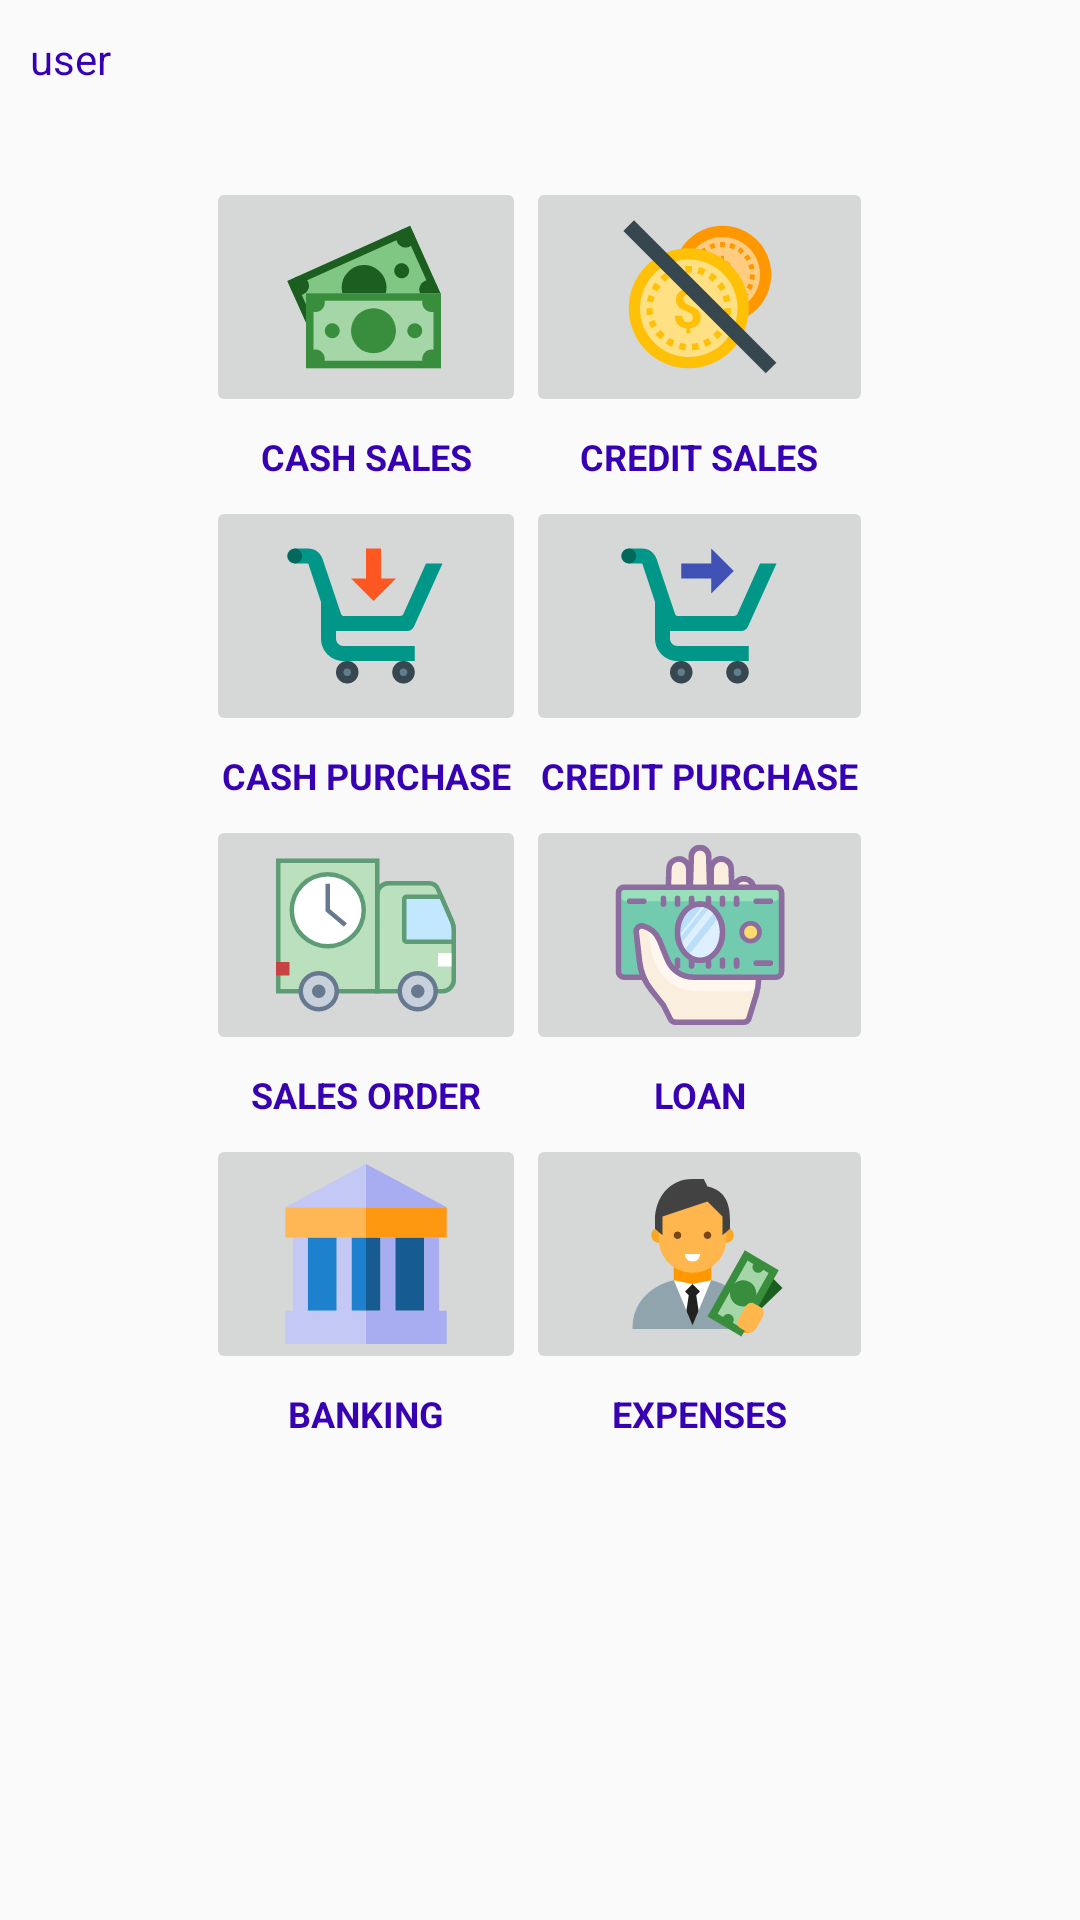

Where to tap for icons on this 1080px x 1920px app screen, as [x,y]:
payments: [699,1254]
